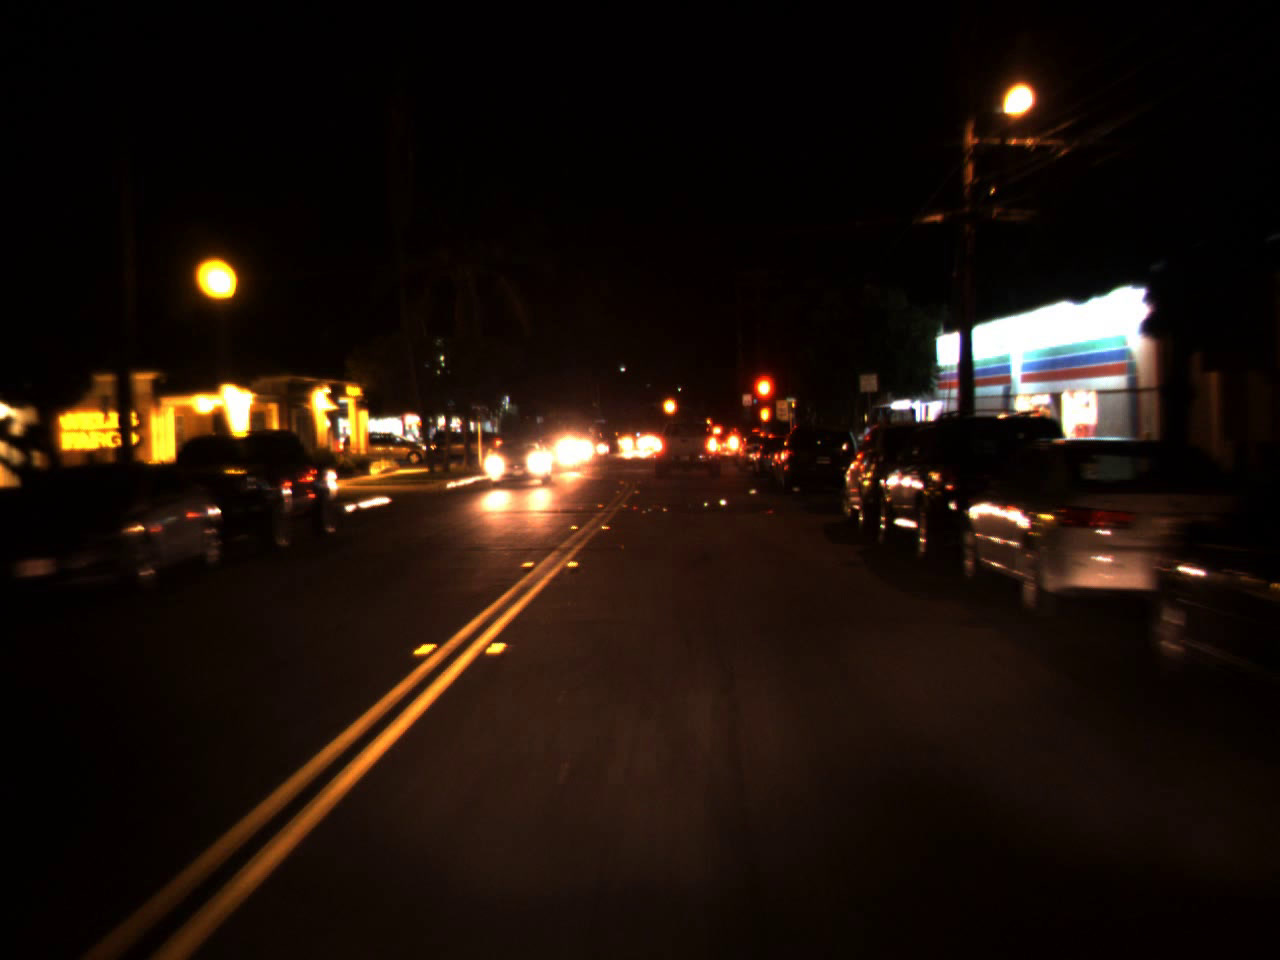stop: (749, 370, 779, 434)
warning: (659, 387, 680, 424), (703, 415, 711, 427)
